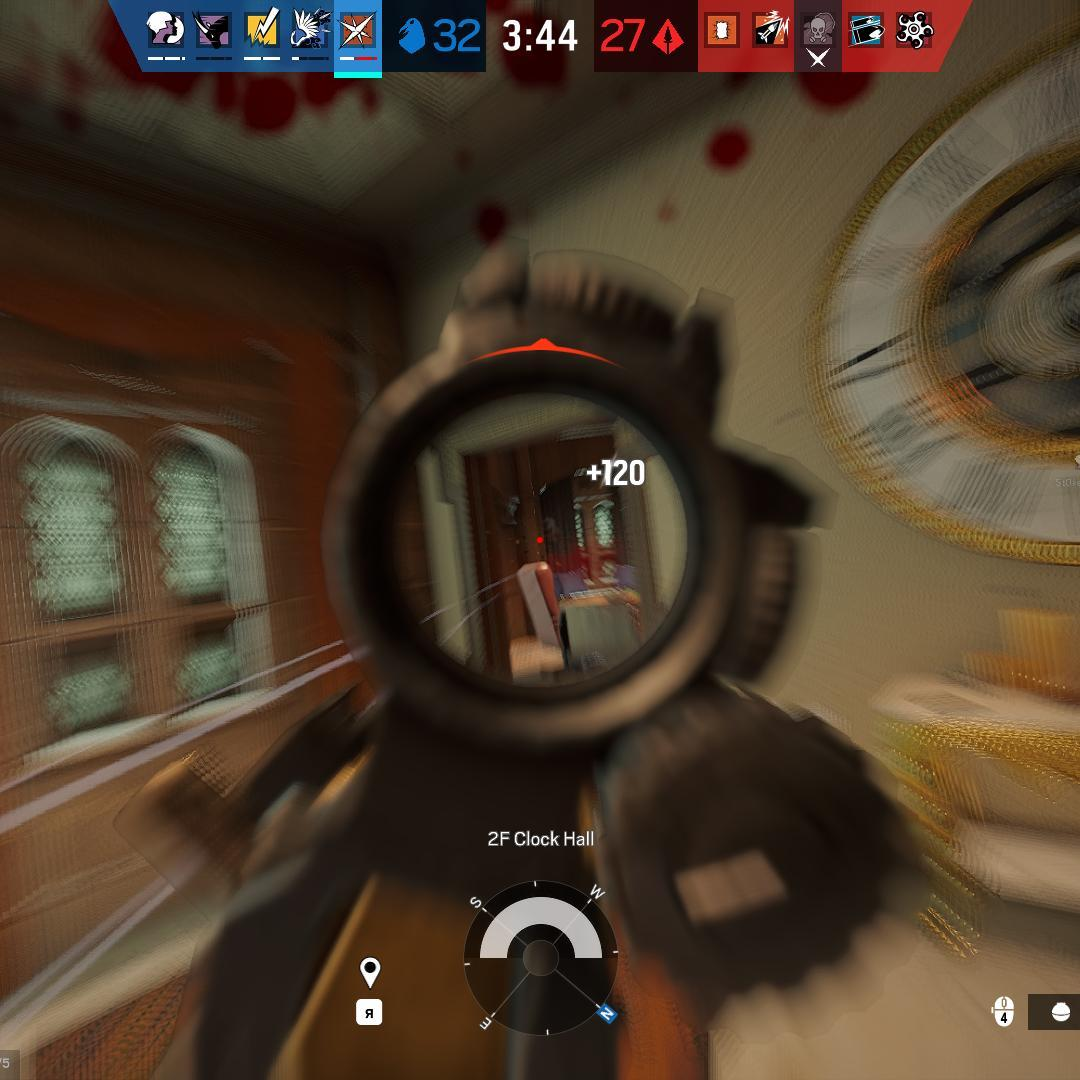Friend_label: (1056, 451, 1080, 488)
